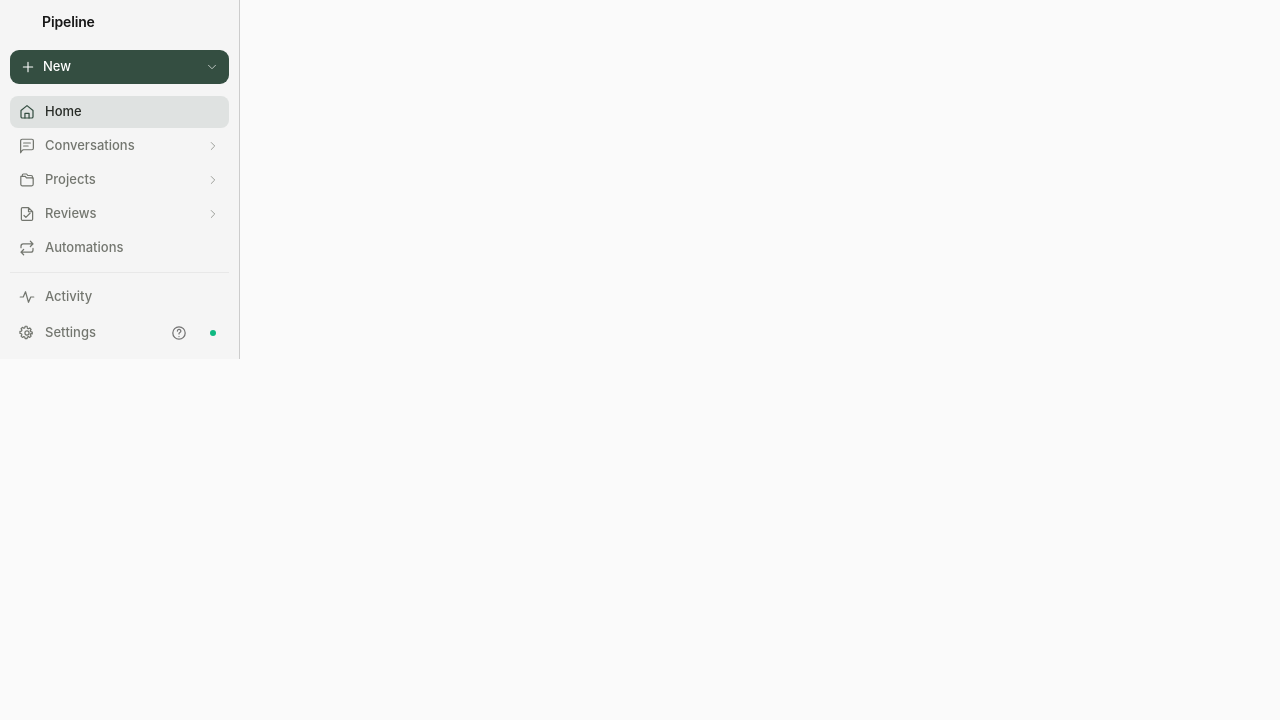
Test: NavRail › says so when nothing is running
This screenshot has width=1280, height=720.
Click the button "Activity": (120, 297) x1=10 y1=281 x2=229 y2=313
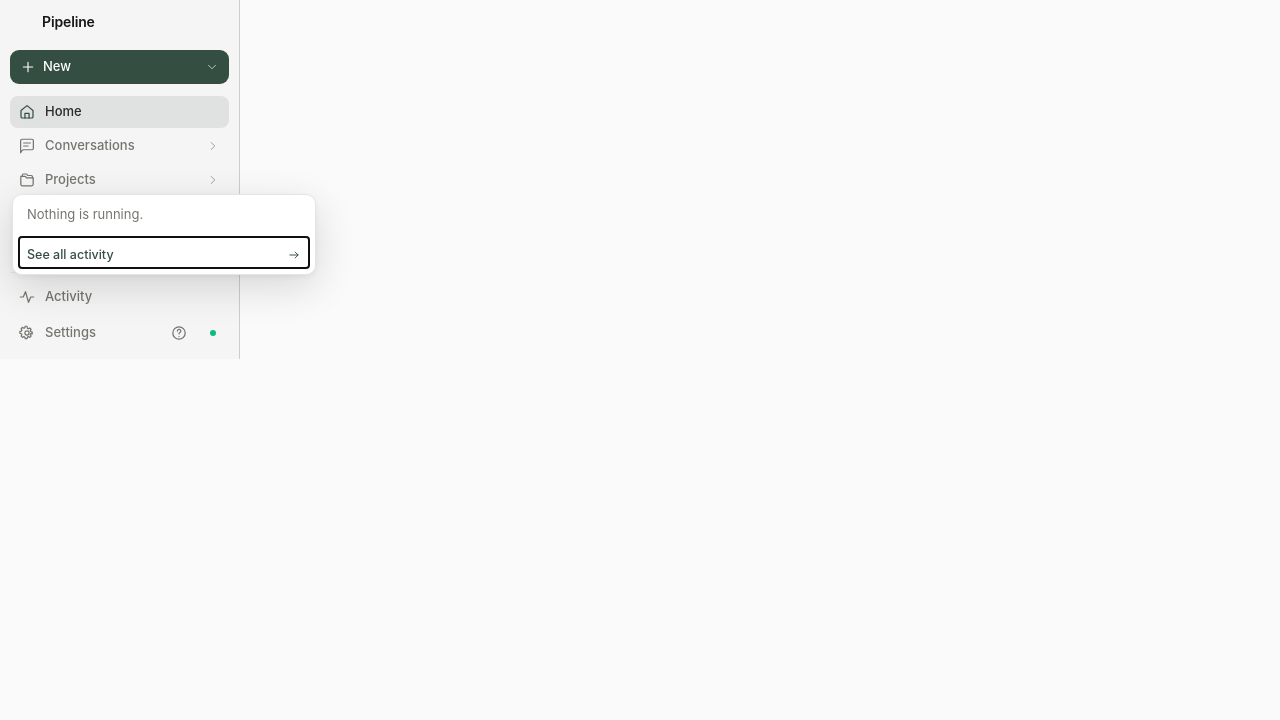
Check: the text "Nothing is running." is shown, box x1=27 y1=206 x2=143 y2=222
